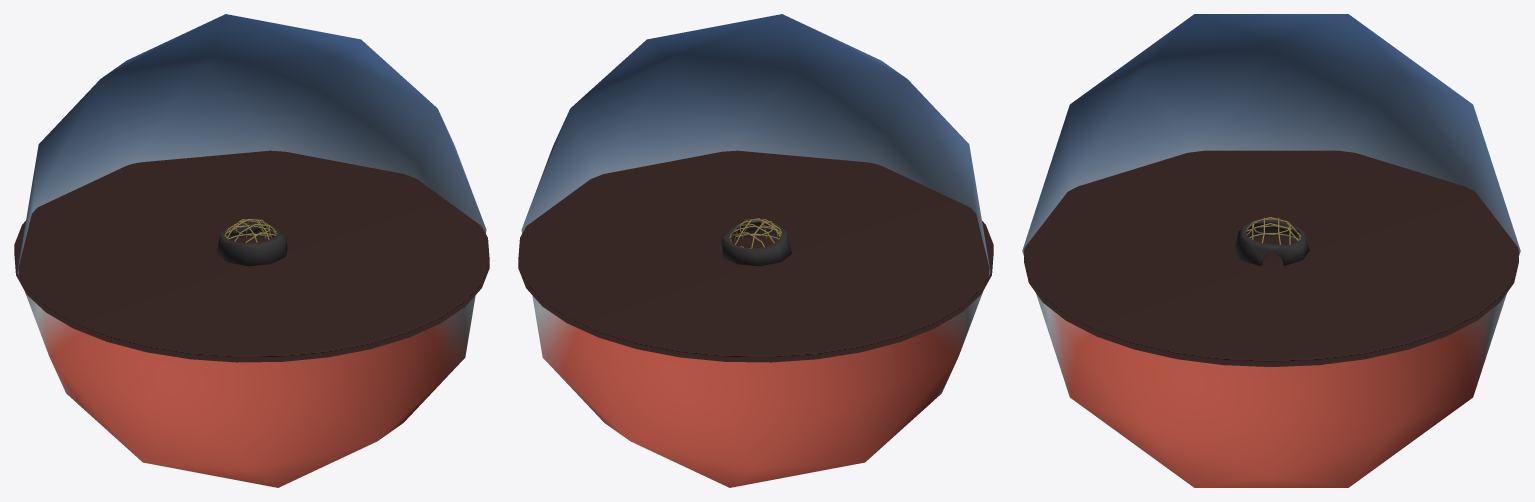
3 renders of one model, left to right at view 1: azimuth 30°, elevation 25°; view 2: azimuth 150°, elevation 25°; view 3: azimuth 270°, elevation 25°, orthographic. The views are drawn at different scales.
Parts seen in each view (by area): view 1: envirosphere.006, ground.008, lodge.006; view 2: envirosphere.006, ground.008, lodge.006; view 3: envirosphere.006, ground.008, lodge.006.
Part boxes in pixels (x1,y1,x2,y2): envirosphere.006: (17, 14, 486, 487); ground.008: (14, 150, 489, 362); lodge.006: (216, 223, 287, 266); envirosphere.006: (521, 14, 990, 487); ground.008: (518, 150, 993, 362); lodge.006: (720, 220, 791, 266); envirosphere.006: (1022, 14, 1520, 487); ground.008: (1024, 150, 1518, 366); lodge.006: (1233, 220, 1309, 266).
Size of the model in its own units: 13.58 by 13.69 by 13.69.
4 materials, 1 textured.
